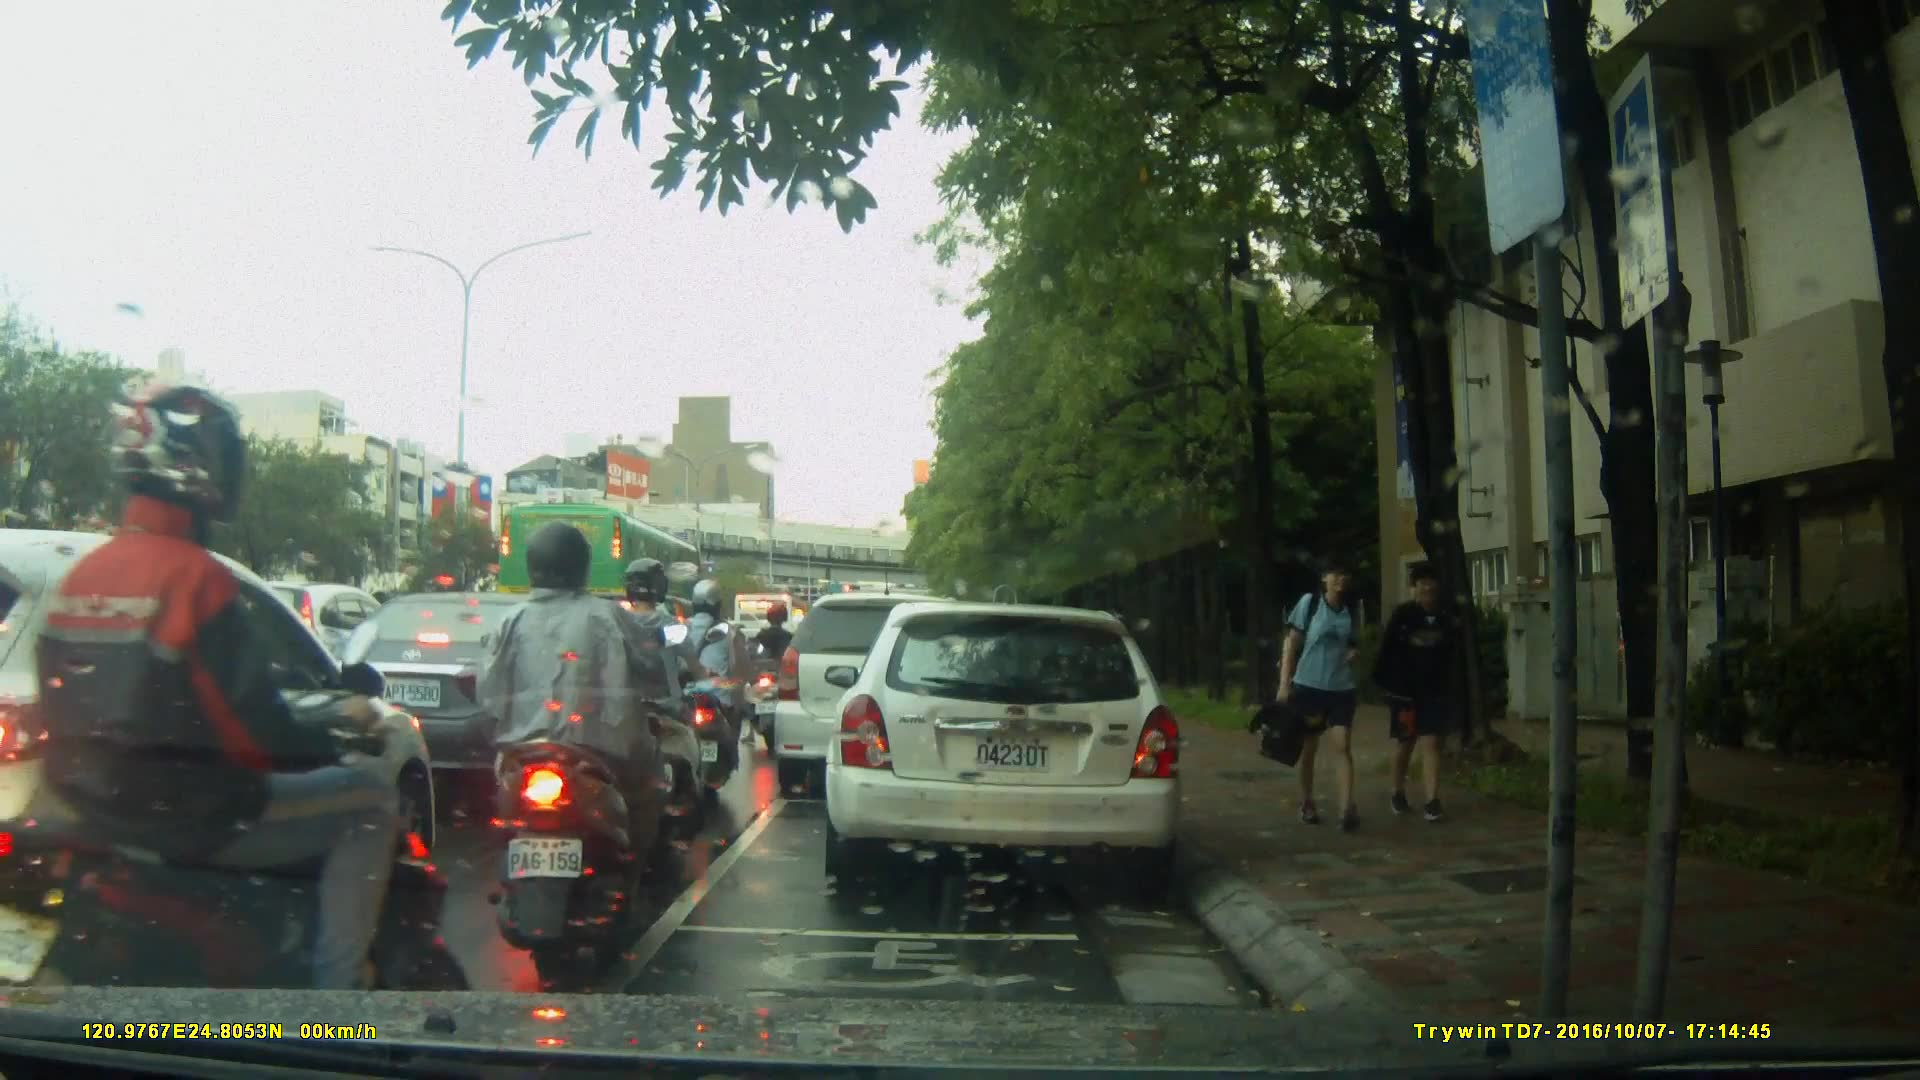pedestrian: (1261, 550, 1377, 835), (1389, 554, 1474, 824)
rider: (1, 383, 445, 1080), (477, 530, 690, 948), (595, 562, 713, 848), (671, 579, 750, 793), (749, 601, 804, 749)
vehicle: (1, 528, 451, 988), (831, 592, 1196, 897), (317, 590, 627, 792), (770, 591, 999, 803), (495, 500, 707, 636)
